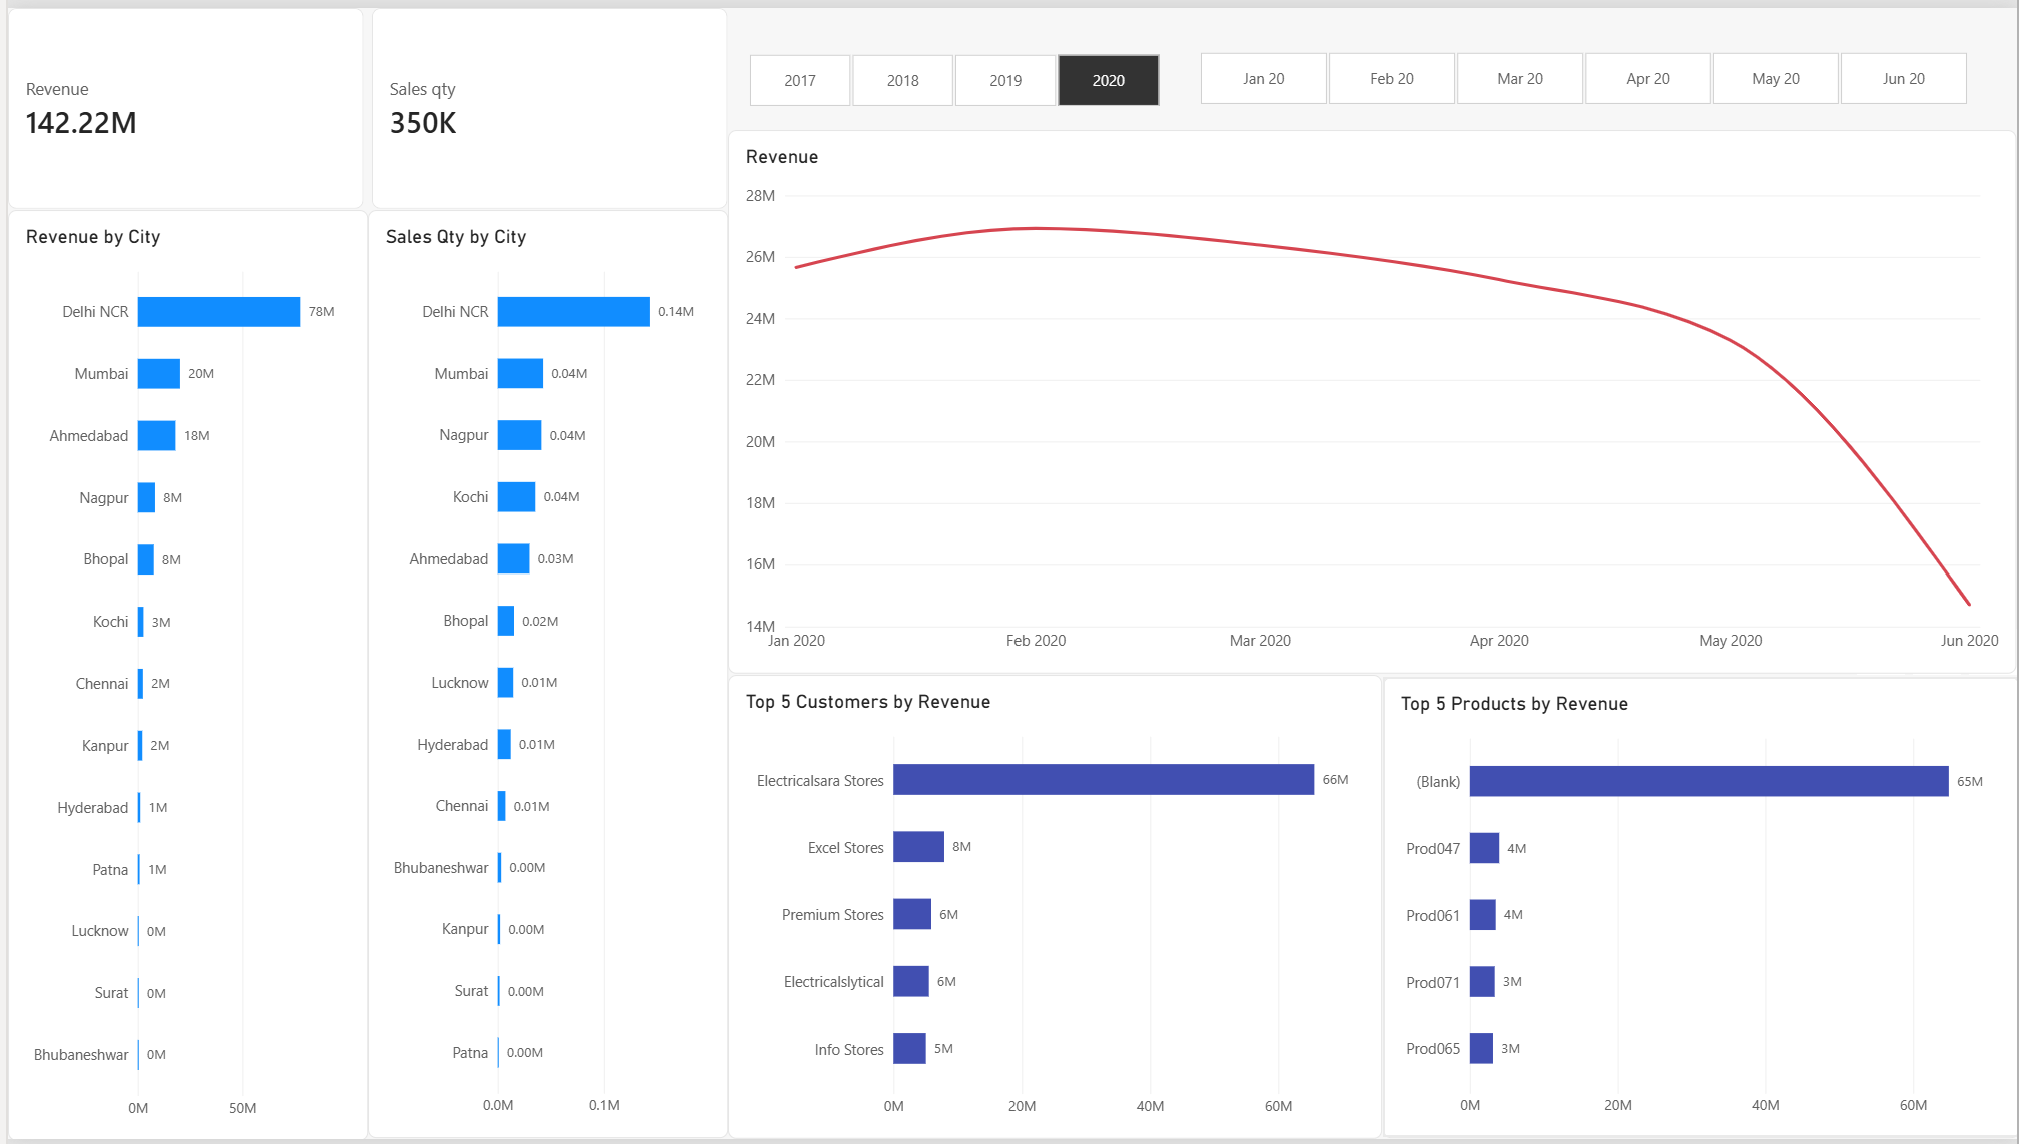

The page's visual inventory and layout, read from the dashboard file:
{"tool":"powerbi","page":{"name":"Page 1","canvas":[1920,1080],"ordinal":0},"visuals":[{"type":"cardVisual","fields":{"Data":["BaseMeasure.Revenue","BaseMeasure.Sales qty"]},"box":[0,0,689,192.9],"z":0},{"type":"barChart","title":"Revenue by City","fields":{"Y":["BaseMeasure.Revenue"],"Category":["sales markets.markets_name"]},"box":[0,192.9,344.5,888.8],"z":1000},{"type":"barChart","title":"Sales Qty by City","fields":{"Y":["Sum(sales transactions.sales_qty)"],"Category":["sales markets.markets_name"]},"box":[344.5,192.9,344.5,886.5],"z":2000},{"type":"slicer","fields":{"Values":["sales date.year"]},"box":[688.4,28.7,430.3,66.9],"z":3000},{"type":"slicer","fields":{"Values":["sales date.cy_date"]},"box":[1118.7,26.8,772.6,66.9],"z":4000},{"type":"barChart","title":"Top 5 Customers by Revenue","fields":{"Category":["sales customers.custmer_name"],"Y":["BaseMeasure.Revenue"]},"box":[689,636.2,624.7,443.3],"z":5000},{"type":"barChart","title":"Top 5 Products by Revenue","fields":{"Category":["sales products.product_code"],"Y":["BaseMeasure.Revenue"]},"box":[1313.7,638.5,608.6,441],"z":6000},{"type":"lineChart","title":"Revenue","fields":{"Y":["BaseMeasure.Revenue"],"Category":["sales date.cy_date.Variation.Date Hierarchy.Year","sales date.cy_date.Variation.Date Hierarchy.Quarter","sales date.cy_date.Variation.Date Hierarchy.Month","sales date.cy_date.Variation.Date Hierarchy.Day"]},"box":[689,117.1,1231,519],"z":7000}]}

Visuals, with their boxes in screenshot pixels (x1, y1, x2, y2), scaled from the page's 1920x1080 canvas onto the 2024x1144 screenshot:
cardVisual - BaseMeasure.Revenue x BaseMeasure.Sales qty: BBox(0, 0, 726, 204)
"Revenue by City" barChart: BBox(0, 204, 363, 1143)
"Sales Qty by City" barChart: BBox(363, 204, 726, 1143)
slicer - sales date.year: BBox(726, 30, 1179, 101)
slicer - sales date.cy_date: BBox(1179, 28, 1994, 99)
"Top 5 Customers by Revenue" barChart: BBox(726, 674, 1385, 1143)
"Top 5 Products by Revenue" barChart: BBox(1385, 676, 2023, 1143)
"Revenue" lineChart: BBox(726, 124, 2023, 674)
